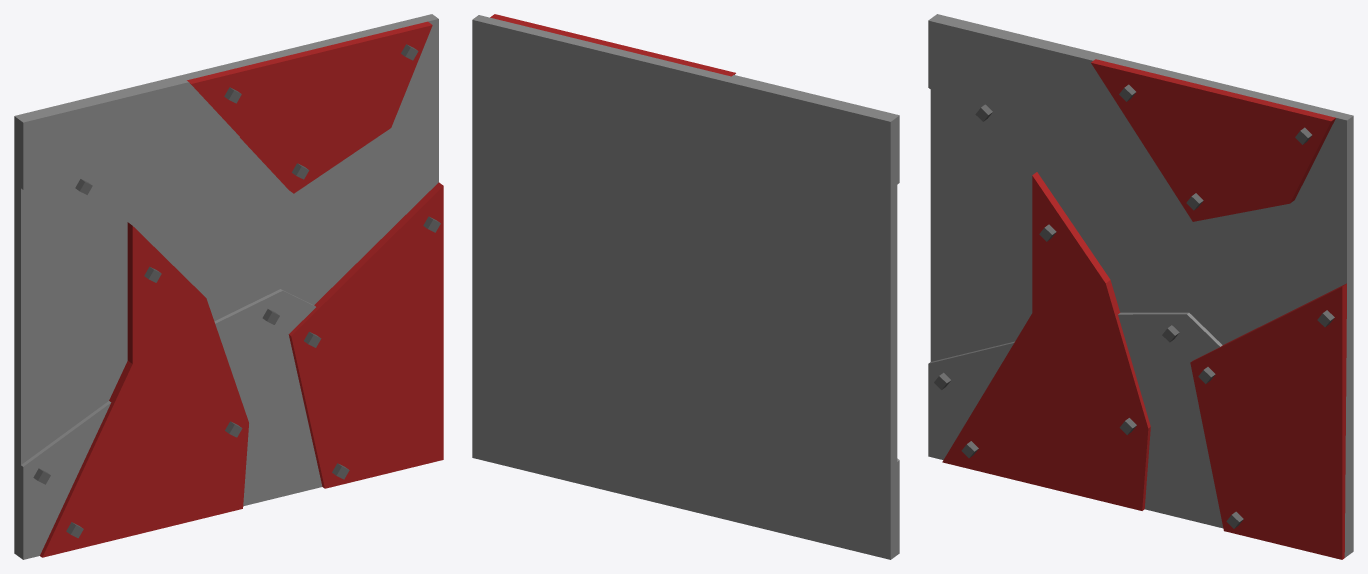
The model's file is Prop_Building_Savage_Metal_Plated_Sheet_Wall_Tile_02.FBX.
3 views of the same model, side by side, from view 1: azimuth 30°, elevation 25°; view 2: azimuth 150°, elevation 25°; view 3: azimuth 330°, elevation 25° (orthographic).
Visible parts, largest first — view 1: Prop_Building_Savage_Metal_Plated_Sheet_Wall_Tile_02; view 2: Prop_Building_Savage_Metal_Plated_Sheet_Wall_Tile_02; view 3: Prop_Building_Savage_Metal_Plated_Sheet_Wall_Tile_02.
Boxes of the visible parts, x1,y1,x2,y2 form: Prop_Building_Savage_Metal_Plated_Sheet_Wall_Tile_02: (14, 14, 443, 559); Prop_Building_Savage_Metal_Plated_Sheet_Wall_Tile_02: (472, 14, 899, 559); Prop_Building_Savage_Metal_Plated_Sheet_Wall_Tile_02: (928, 14, 1353, 559).
Bounding box in the file's own units: 3000 × 3000 × 200.
